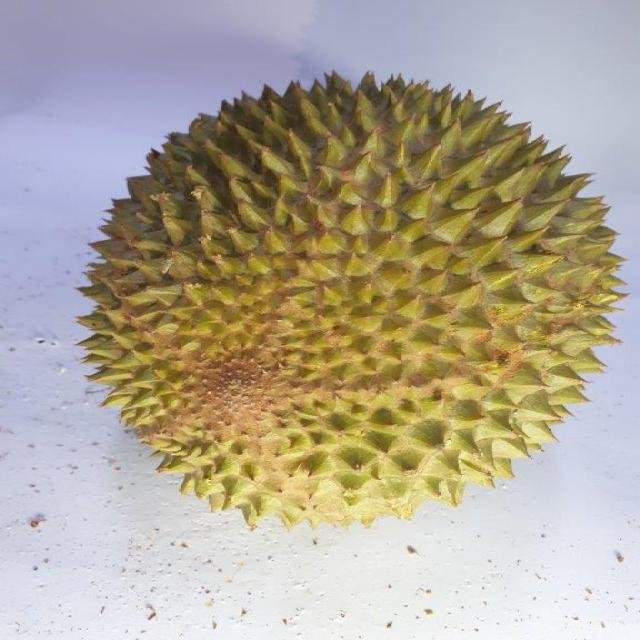mature: (77, 70, 622, 533)
